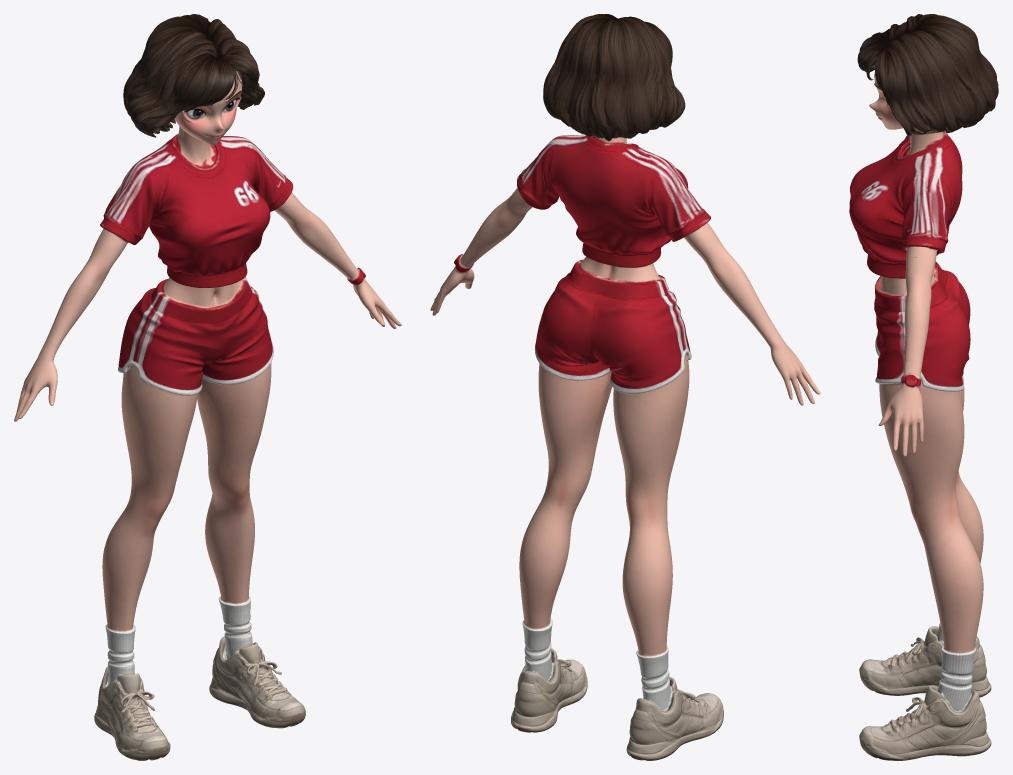
The model's file is leoverse_statue.glb.
The picture shows the model from 3 angles, left to right: view 1: azimuth 30°, elevation 25°; view 2: azimuth 150°, elevation 25°; view 3: azimuth 270°, elevation 25°; orthographic projection.
Parts seen in each view (by area): view 1: leoverse; view 2: leoverse; view 3: leoverse.
Boxes of the visible parts, x1,y1,x2,y2 form: leoverse: [14, 14, 401, 760]; leoverse: [430, 14, 820, 760]; leoverse: [849, 14, 998, 760].
Size of the model in its own units: 1.08 by 1.9 by 0.3665.
1 material, 1 textured.
